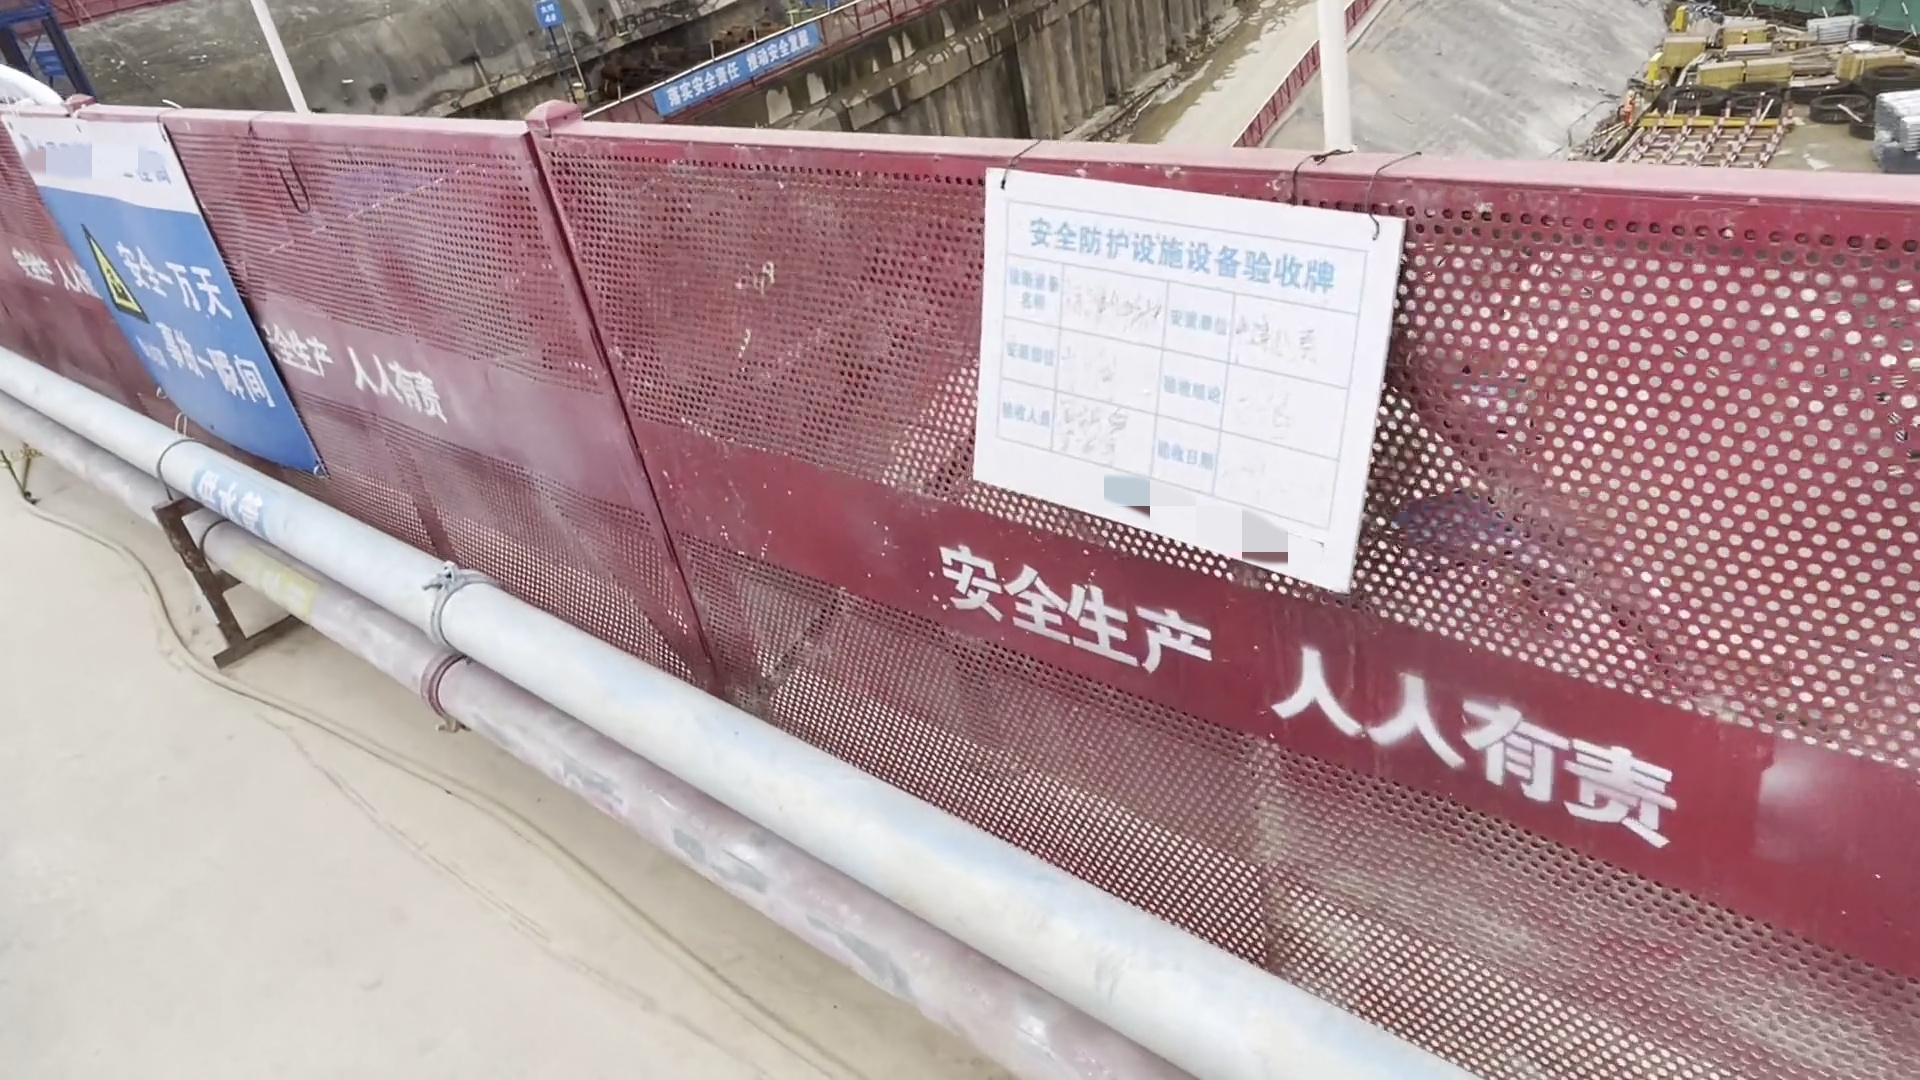fence: (510, 84, 1869, 985)
slogan: (953, 164, 1396, 597), (1, 120, 336, 495), (647, 24, 825, 129)
